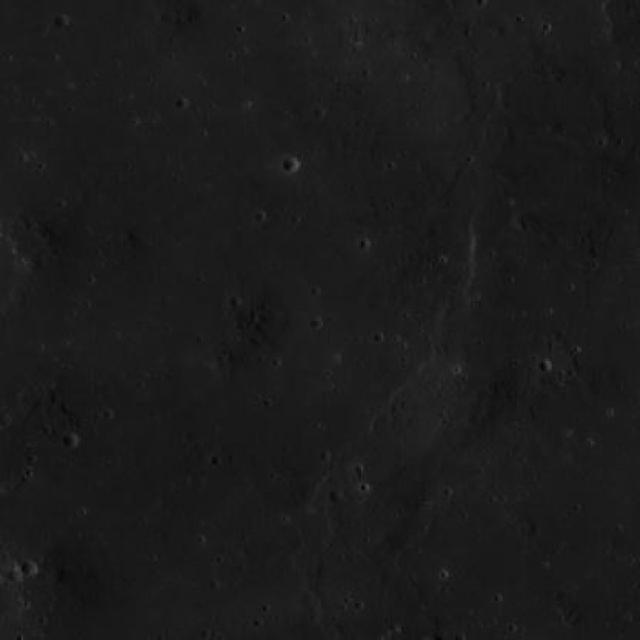crater: (22, 560, 40, 576), (284, 158, 300, 174)
